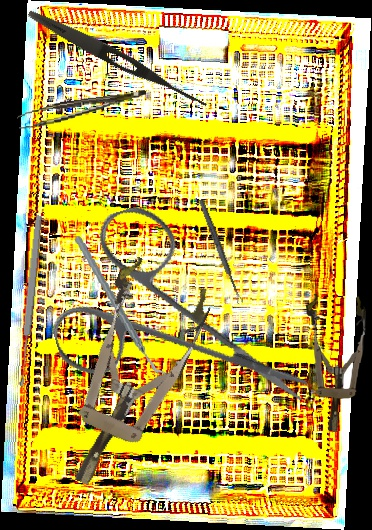Chopper: (74, 227, 168, 386)
Dressing Forceps: (24, 5, 213, 113)
Iris Scissors: (24, 173, 312, 464)
Speculum: (35, 252, 218, 502), (302, 293, 367, 433)
Surgical Spoon: (197, 198, 244, 305), (16, 214, 44, 388)
Tissue Forceps: (15, 89, 149, 130)
